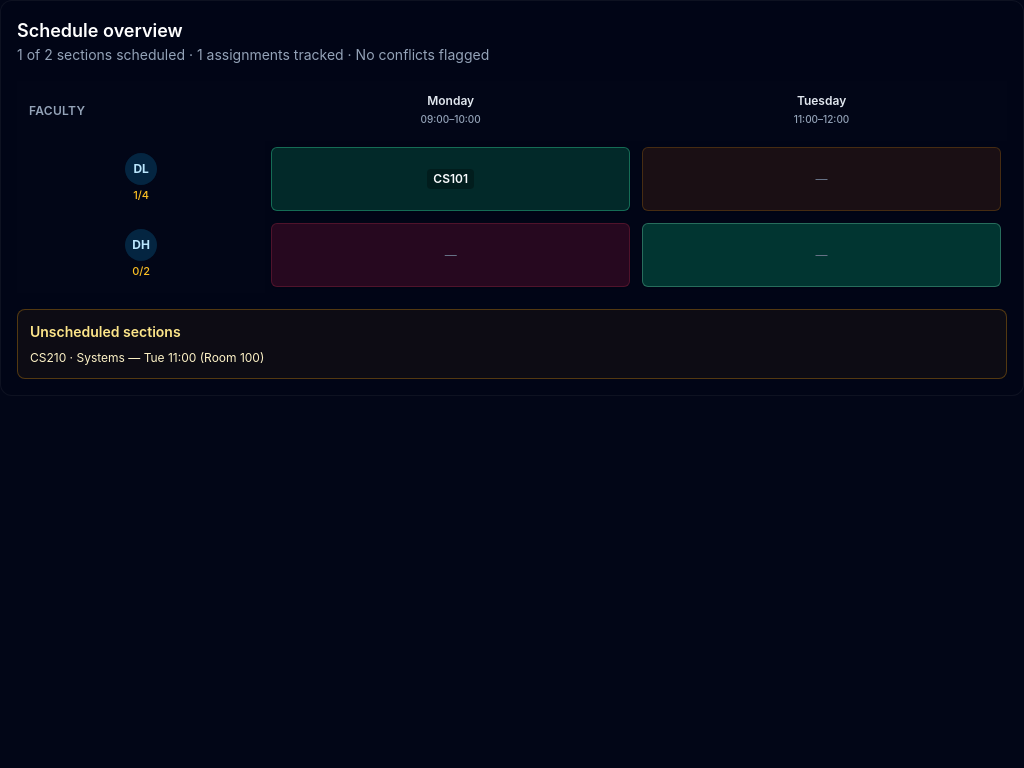
Scenario: ScheduleGrid interactions › navigates between cells with arrow keys
This screenshot has width=1024, height=768.
Click the button with aria-label "Ada Lovelace at Mon 09:00" at (451, 179), box top-left (271, 147), bottom-right (630, 211)
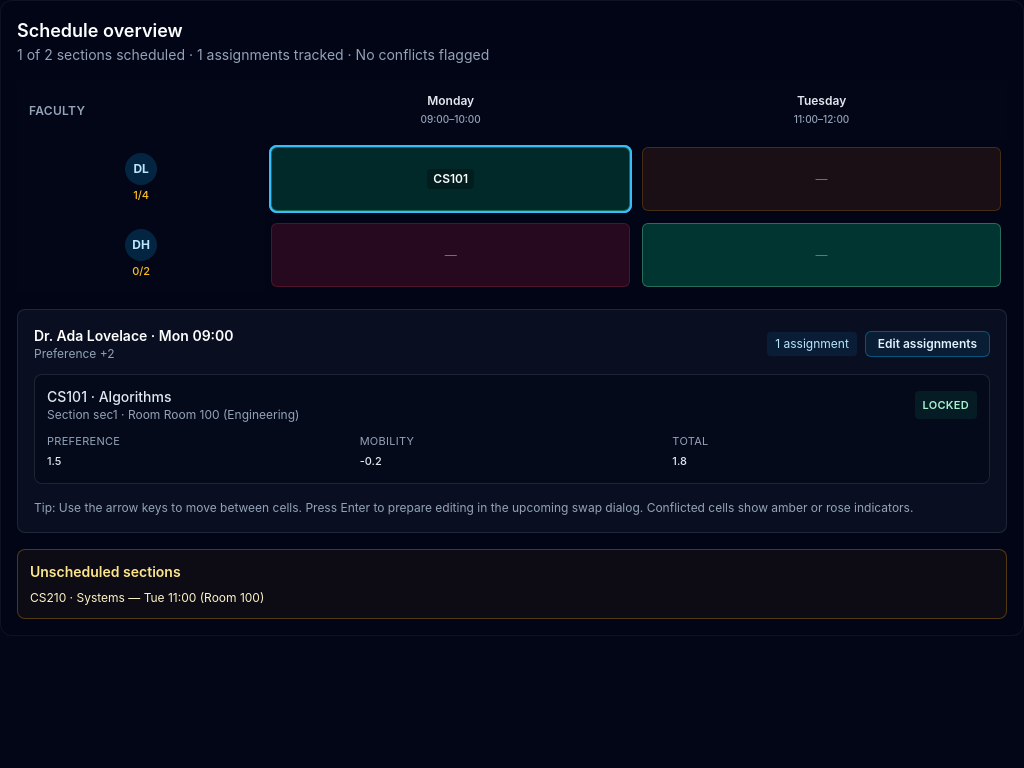
Press Arrowright
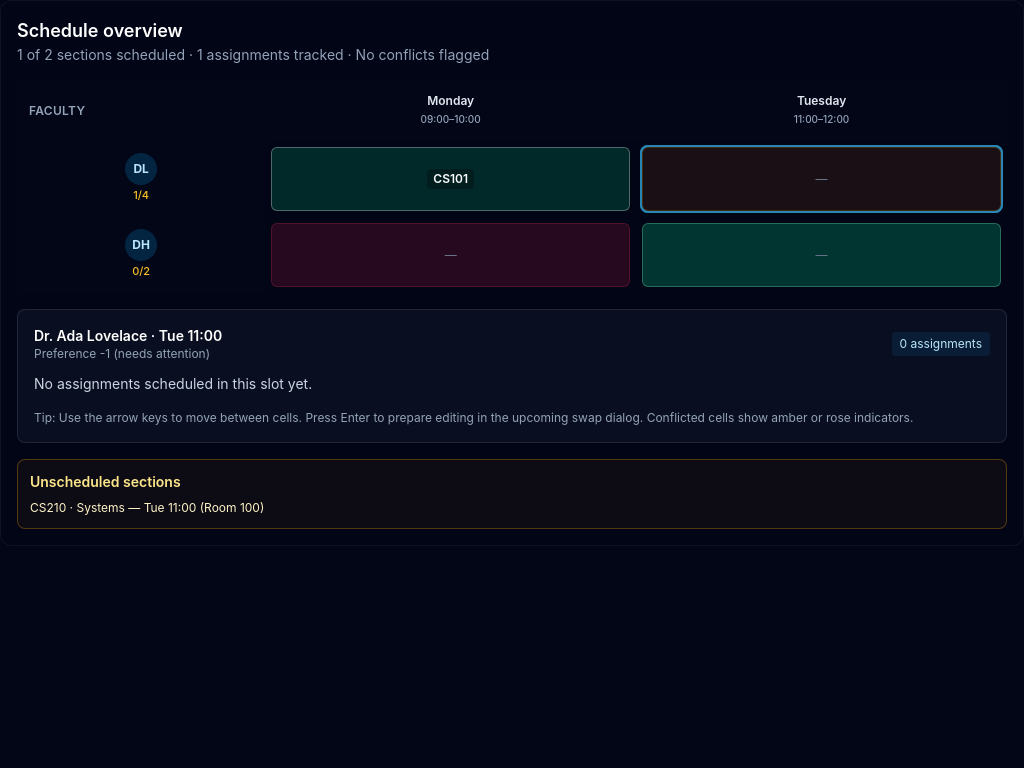
Now the text "No assignments scheduled in this slot yet." is shown, box top-left (34, 375), bottom-right (312, 392)
